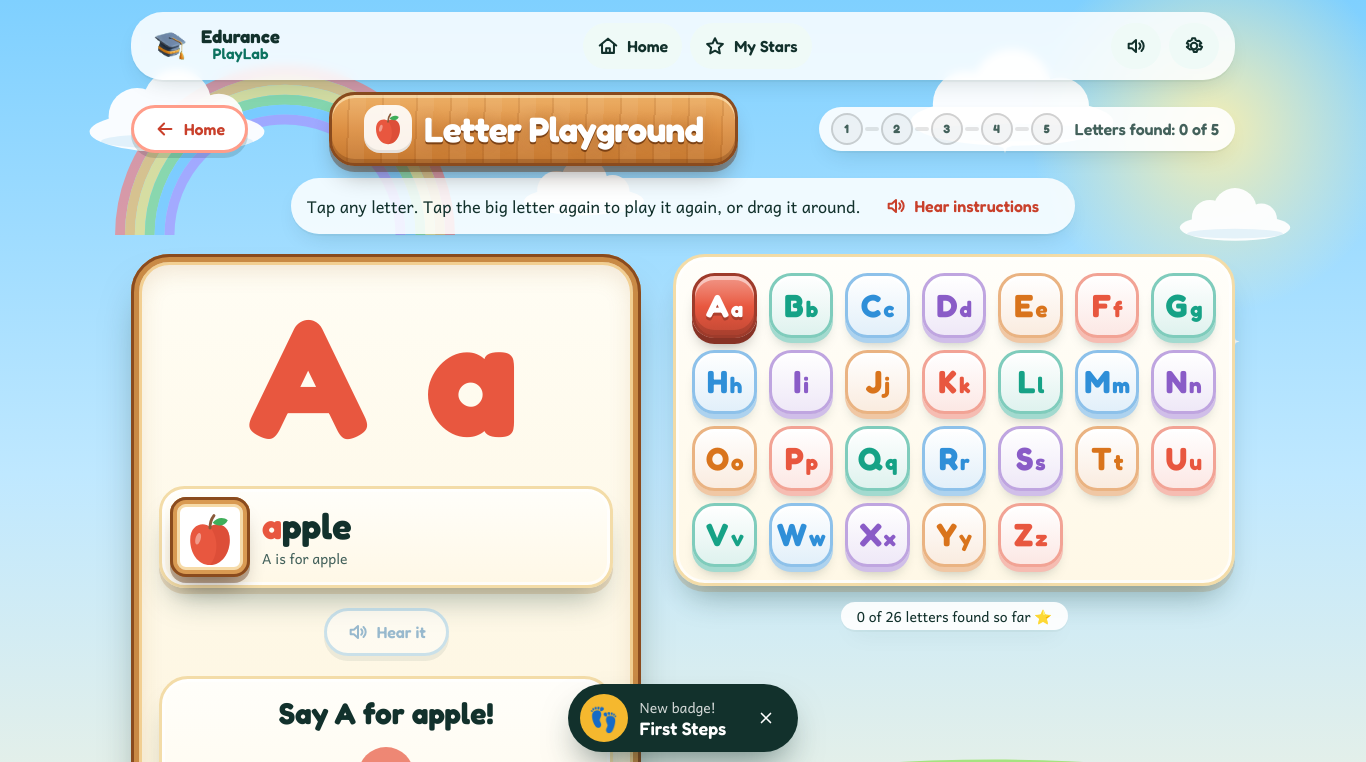
Test: the alphabet goal is rewarded once per learner › finding every letter again on a later visit celebrates it, but adds no stars or round
The width and height of the screenshot is (1366, 762).
Click the button "A a" at (725, 306), box [692,273,757,338]
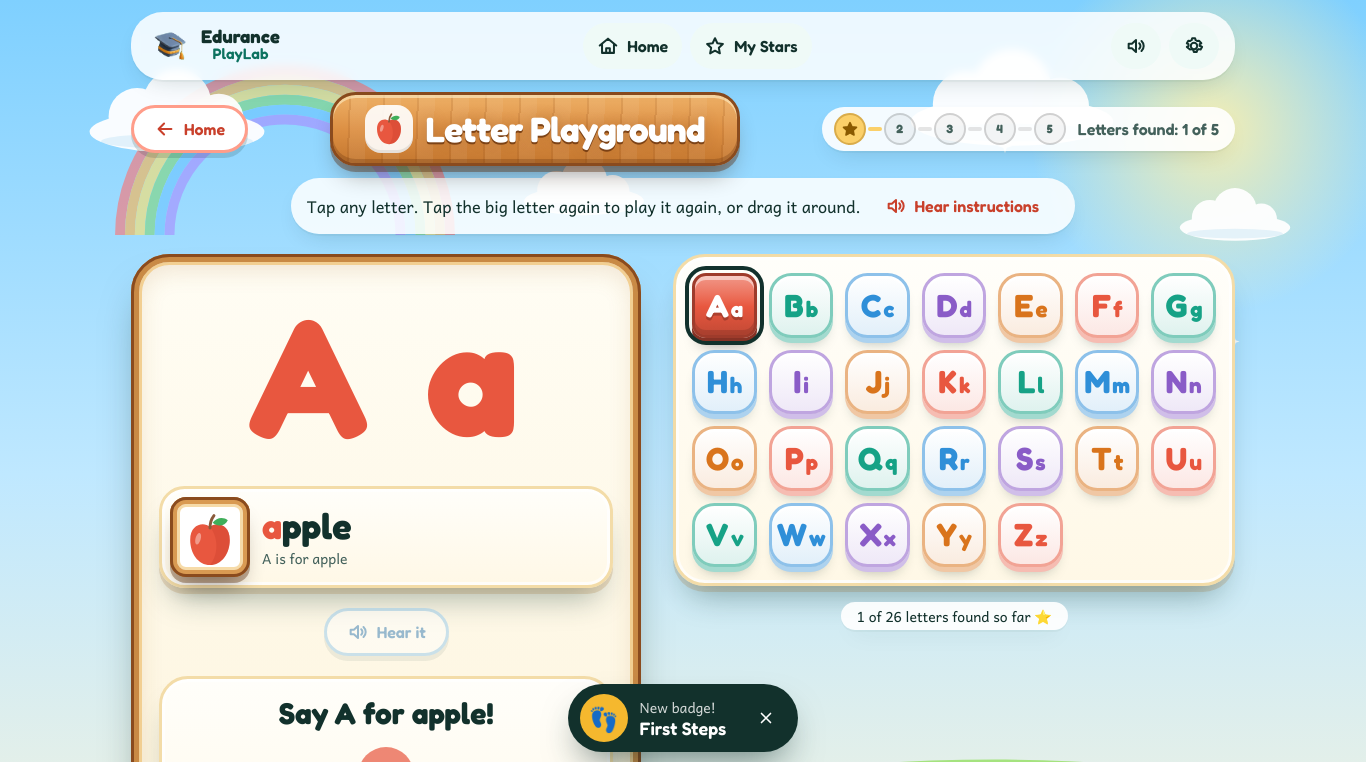
Click the button "B b" at (801, 306), box [769,273,834,338]
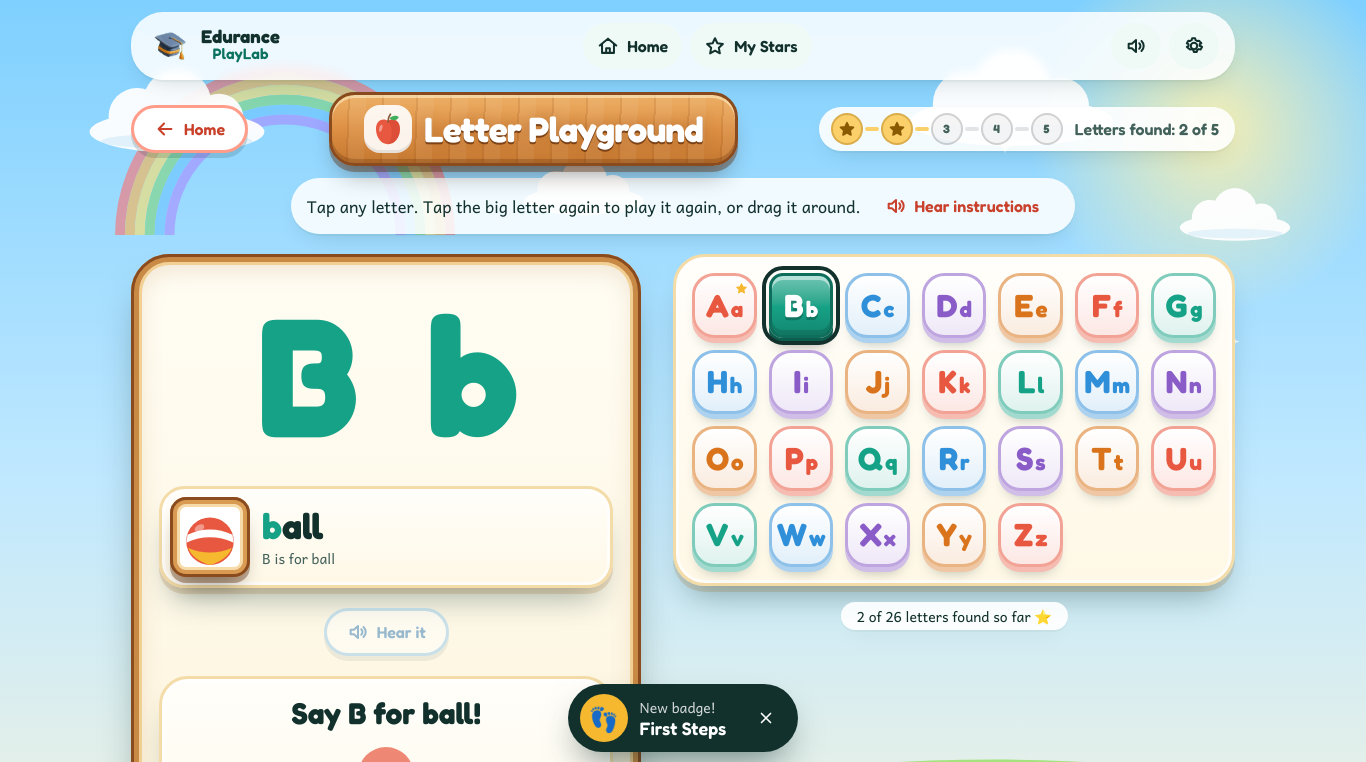
Click the button "C c" at (878, 306), box [846,273,910,338]
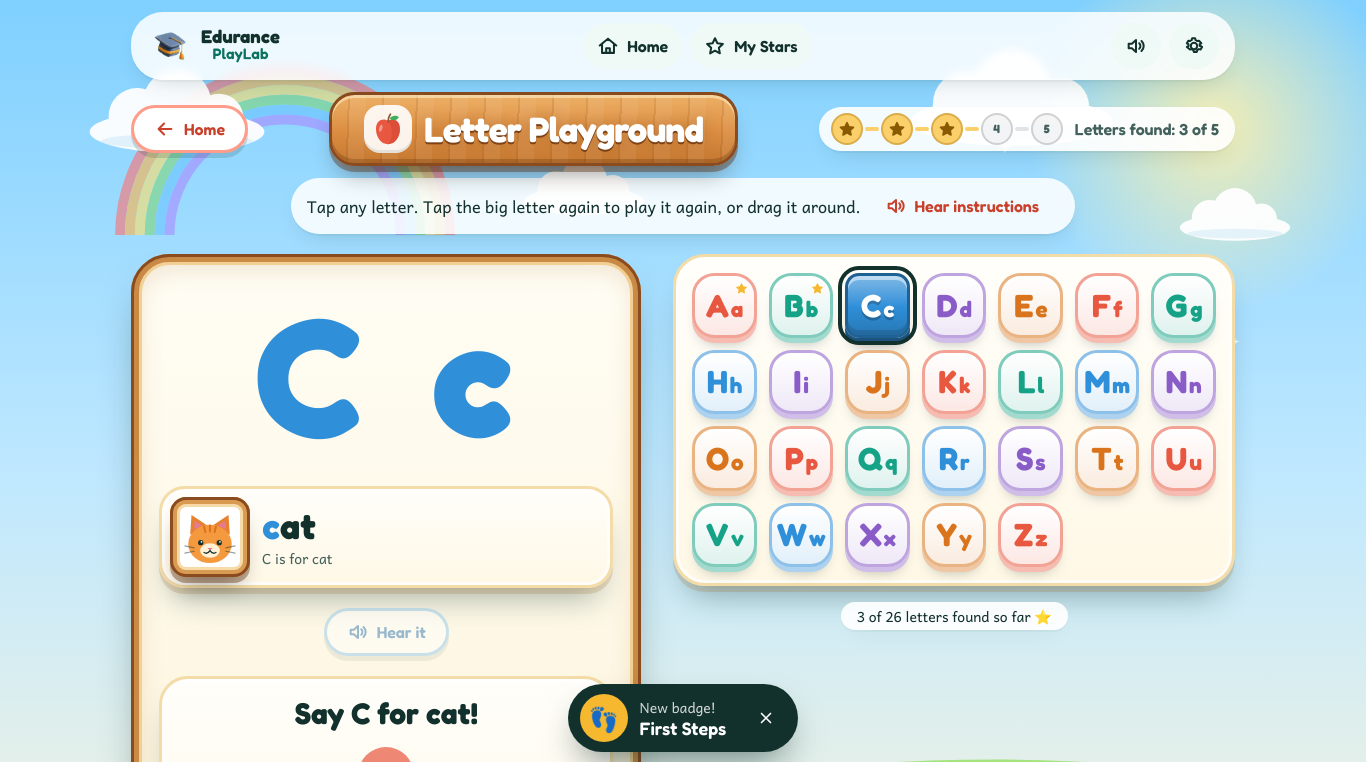
Click the button "D d" at (954, 306), box [922,273,986,338]
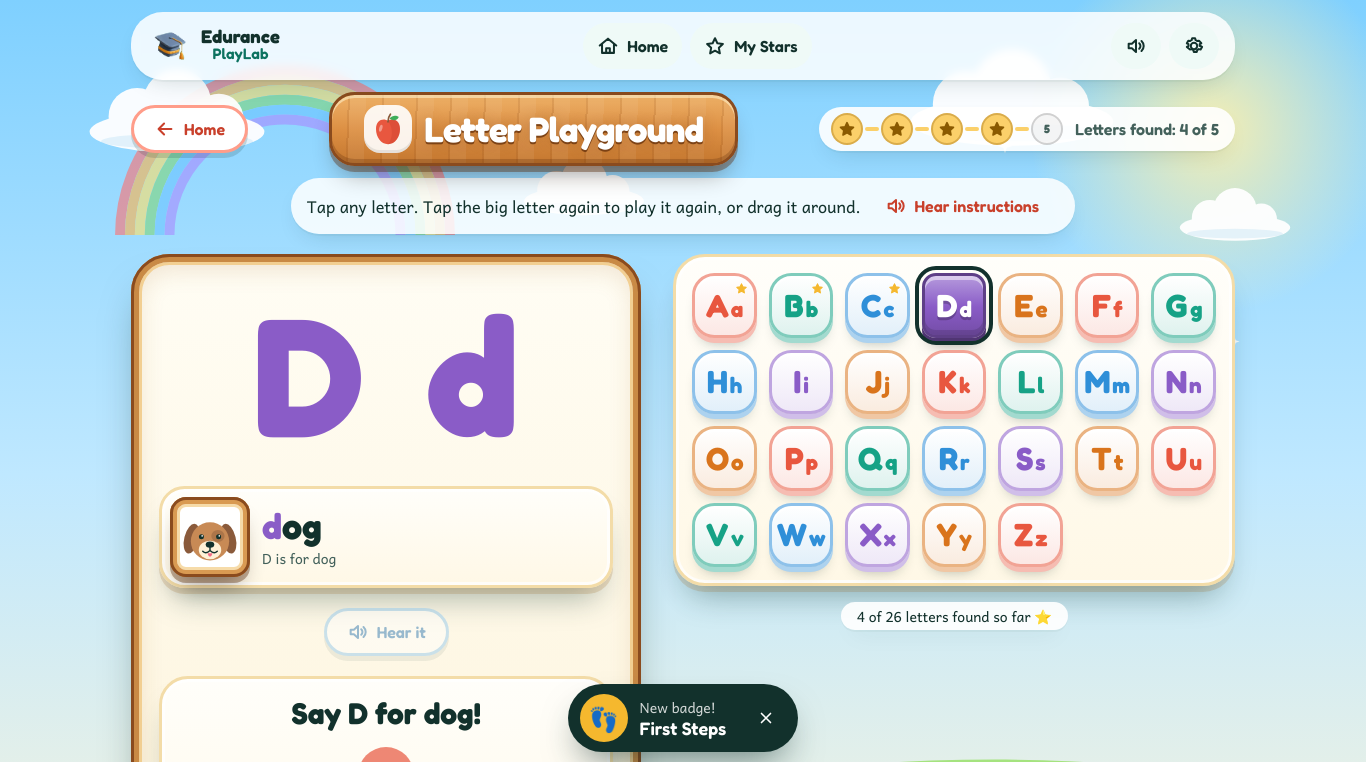
Click the button "E e" at (1031, 306), box [998,273,1063,338]
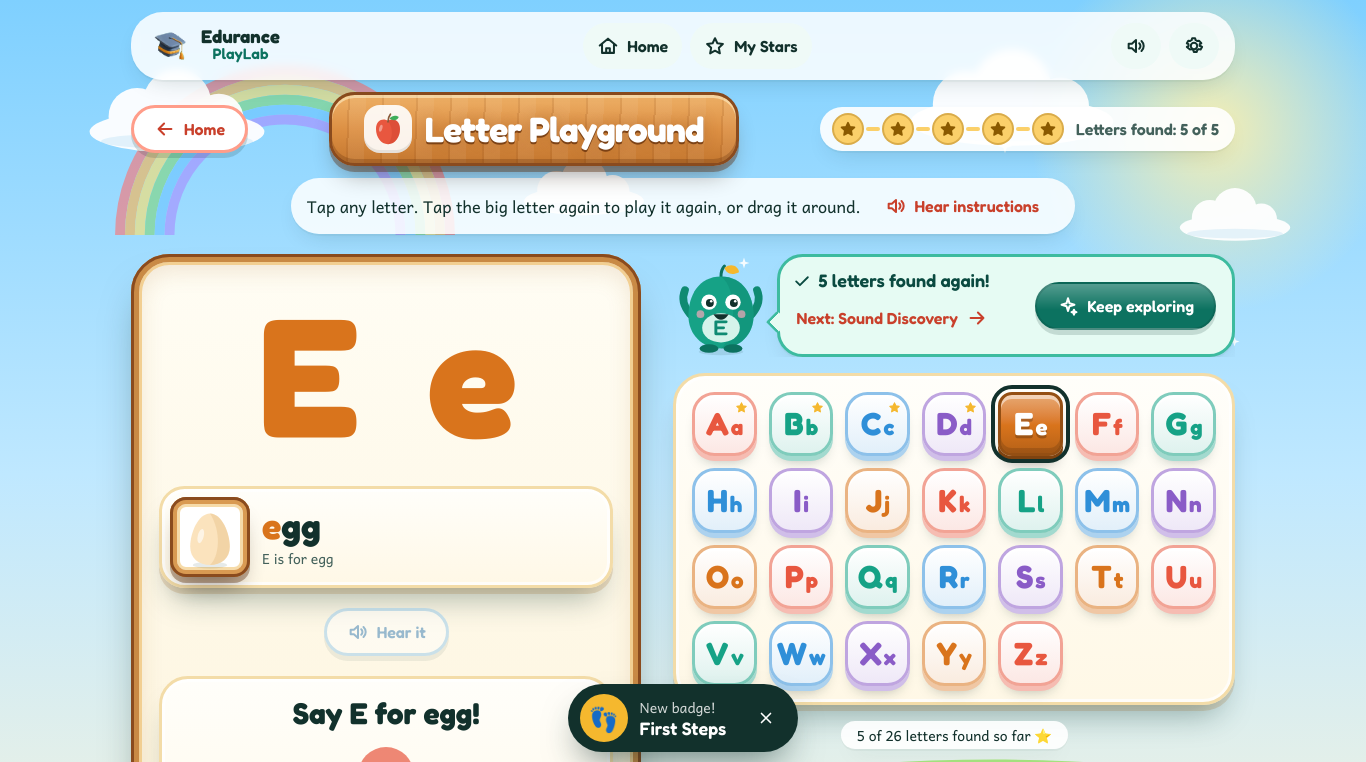
Now the text "5 letters found again!" is shown, box [792,269,1023,292]
